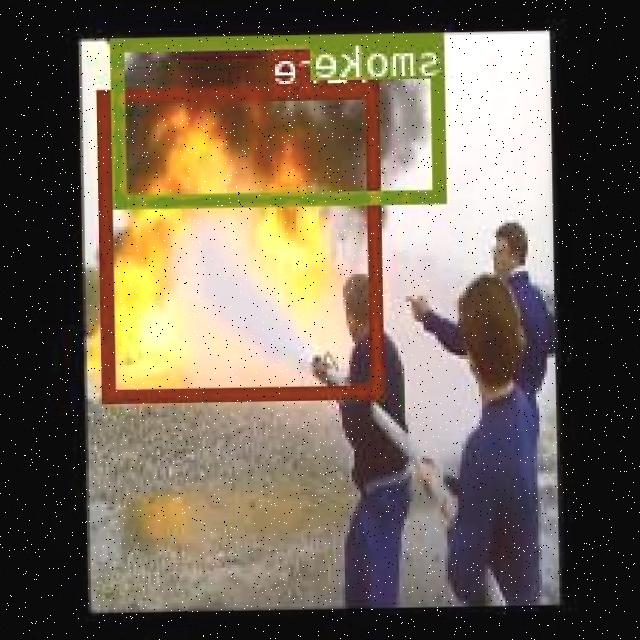fire: (101, 84, 384, 401)
smoke: (115, 31, 448, 204)
